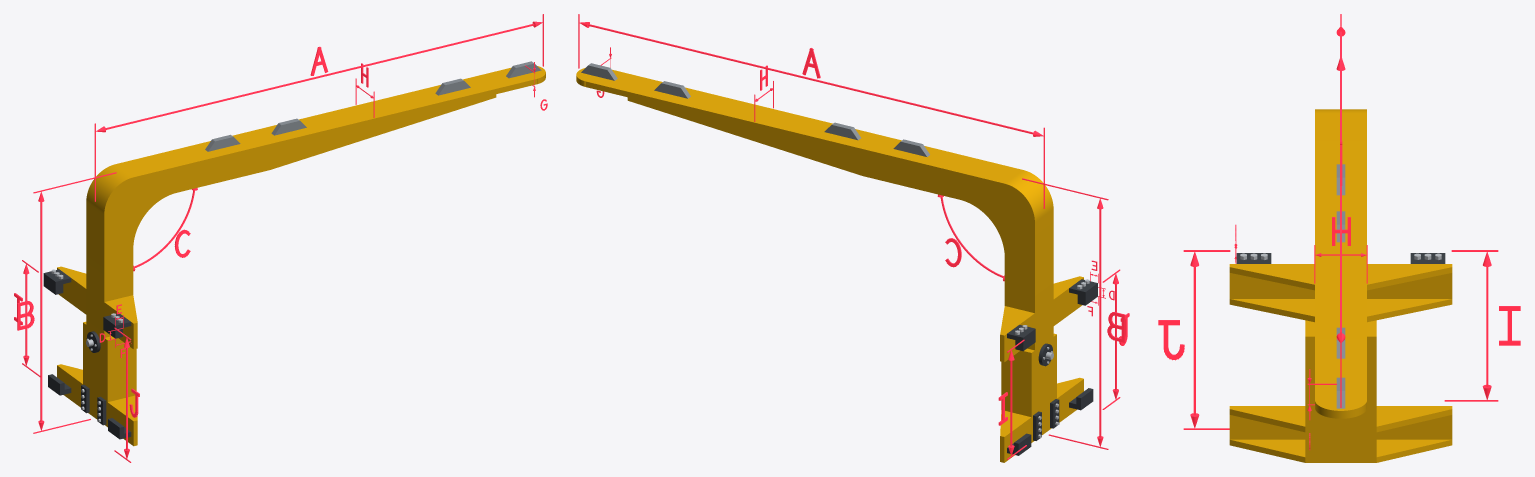
File: Modelo3DLInvertido.glb
3 renders of one model, left to right at view 1: azimuth 30°, elevation 25°; view 2: azimuth 150°, elevation 25°; view 3: azimuth 270°, elevation 25°, orthographic. The views are drawn at different scales.
Parts seen in each view (by area): view 1: Estrutura, Ganchos, Cota_A, Sapatas, Cota_B; view 2: Estrutura, Ganchos, Cota_A, Sapatas, Cota_B; view 3: Estrutura, Sapatas, Cota_J, Cota_A, Cota_I, Ganchos, Cota_J_letra, Cota_I_letra.
Boxes of the visible parts, left/top/right/bottom form: Estrutura: left=57, top=66, right=545, bottom=446; Ganchos: left=43, top=269, right=131, bottom=439; Cota_A: left=94, top=14, right=543, bottom=201; Sapatas: left=205, top=61, right=541, bottom=151; Cota_B: left=33, top=172, right=116, bottom=433; Estrutura: left=576, top=68, right=1083, bottom=462; Ganchos: left=1007, top=279, right=1097, bottom=455; Cota_A: left=578, top=14, right=1044, bottom=208; Sapatas: left=581, top=63, right=929, bottom=156; Cota_B: left=1022, top=178, right=1108, bottom=449; Estrutura: left=1229, top=109, right=1452, bottom=462; Sapatas: left=1336, top=164, right=1345, bottom=408; Cota_J: left=1183, top=250, right=1230, bottom=429; Cota_A: left=1336, top=14, right=1345, bottom=407; Cota_I: left=1444, top=250, right=1498, bottom=401; Ganchos: left=1236, top=253, right=1445, bottom=263; Cota_J_letra: left=1158, top=320, right=1184, bottom=360; Cota_I_letra: left=1499, top=306, right=1520, bottom=345.
Bounding box in the file's own units: 2.54 × 1.46 × 1.04.
